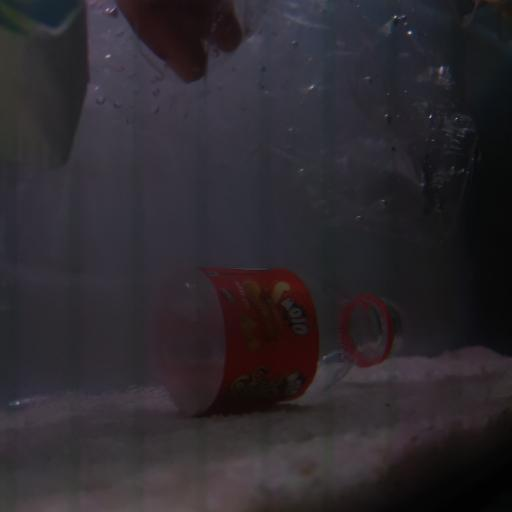mask: (2, 0, 91, 184)
plastic_bag: (84, 0, 512, 219)
plastic_bottle: (7, 262, 410, 416)
